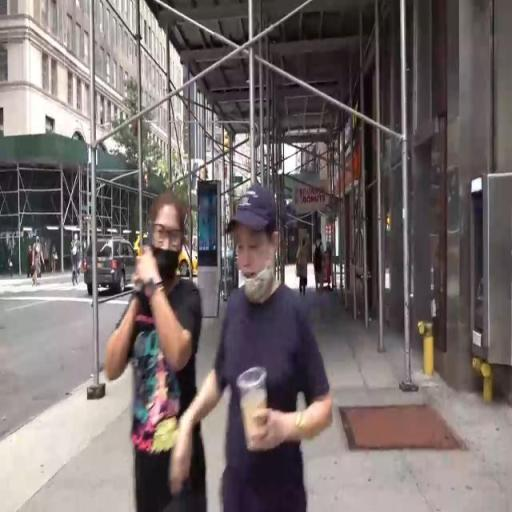person: (209, 181, 330, 512), (121, 208, 210, 512), (68, 232, 86, 294), (295, 231, 308, 289), (33, 236, 47, 284), (315, 234, 326, 292), (52, 244, 62, 276)
